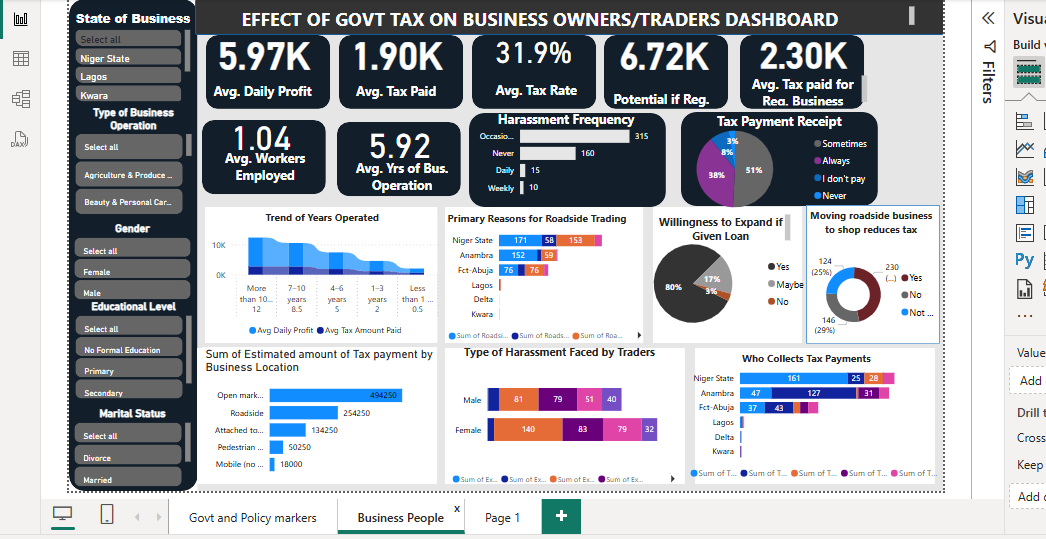

Layout of this report page (visuals, bound fields, positions):
{"tool":"powerbi","page":{"name":"Business People","canvas":[1280,720],"ordinal":1},"visuals":[{"type":"shape","box":[1072.7,106.8,202,199],"z":0},{"type":"shape","box":[188.8,0,1091.7,52.7],"z":1000},{"type":"shape","box":[0,0,1280.5,720],"z":2000},{"type":"shape","box":[200,53.3,181.7,108.3],"z":3000},{"type":"shape","box":[0,0,188.3,720],"z":4000},{"type":"shape","box":[395,53.3,181.7,108.3],"z":5000},{"type":"textbox","box":[205.7,117.1,170,41.4],"z":6000},{"type":"card","fields":{"Values":["Form Responses 1.Avg Daily Profit"]},"box":[200,27.1,167.1,98.6],"z":7000},{"type":"shape","box":[590,53.3,181.7,108.3],"z":8000},{"type":"textbox","box":[394.3,117.1,170,41.4],"z":9000},{"type":"shape","box":[783.3,53.3,181.7,108.3],"z":10000},{"type":"shape","box":[981.7,53.3,181.7,108.3],"z":11000},{"type":"card","fields":{"Values":["Form Responses 1.Avg Tax Amount Paid"]},"box":[395.7,25.7,168.6,100],"z":12000},{"type":"textbox","box":[774.3,128.6,185.7,41.4],"z":13000},{"type":"textbox","box":[981.4,107.1,191.4,54.3],"z":14000},{"type":"card","fields":{"Values":["Form Responses 1.Avg Tax Rate"]},"box":[587.1,34.3,185.7,81.4],"z":15000},{"type":"shape","box":[194.3,177.1,181.4,108.6],"z":16000},{"type":"textbox","box":[598.6,115.7,170,41.4],"z":17000},{"type":"shape","box":[392.9,180,181.4,108.6],"z":18000},{"type":"card","fields":{"Values":["Form Responses 1.Avg Workers Employed"]},"box":[194.3,160,172.9,75.7],"z":19000},{"type":"textbox","box":[201.4,215.7,170,70],"z":20000},{"type":"card","fields":{"Values":["Form Responses 1.Avg Yrs Operated"]},"box":[402.9,180,161.4,58.6],"z":21000},{"type":"shape","box":[198.6,304.3,340,198.6],"z":22000},{"type":"textbox","box":[200,304.3,340,37.1],"z":23000},{"type":"shape","box":[550.2,304.4,289.8,199],"z":24000},{"type":"ribbonChart","fields":{"Category":["Form Responses 1.Estimated Years of  Bus Operation","Form Responses 1.Years of Business Operation"],"Y":["Form Responses 1.Avg Daily Profit","Form Responses 1.Avg Tax Amount Paid"]},"box":[201.4,322.9,348.6,180],"z":25000},{"type":"textbox","box":[515.1,305.9,339.5,36.6],"z":26000},{"type":"barChart","fields":{"Category":["Form Responses 1.State of Business"],"Y":["Sum(Form Responses 1.Roadside Business reasons - Lack of capital)","Sum(Form Responses 1.Roadside Business reasons - Customers are more on the road)","Sum(Form Responses 1.Roadside Business reasons - Shop rent is too high)","Sum(Form Responses 1.Roadside Business reasons - Other)","Sum(Form Responses 1.Roadside Business reasons - No access to market stalls)"]},"box":[550.2,323.4,304.4,187.3],"z":27000},{"type":"shape","box":[854.6,304.4,218,199],"z":28000},{"type":"textbox","box":[854.6,310.2,206.3,49.8],"z":29000},{"type":"pieChart","fields":{"Y":["Form Responses 1.Total Traders"],"Category":["Form Responses 1.Willing to Expand or Move"]},"box":[799,332.2,291.2,168.3],"z":30000},{"type":"shape","box":[187.1,510,351.4,198.6],"z":31000},{"type":"advancedSlicerVisual","fields":{"Values":["Form Responses 1.State of Business"]},"box":[4.3,15.7,178.6,141.4],"z":32000},{"type":"textbox","box":[1072.7,301.5,202.2,51.4],"z":32000,"group":"g1"},{"type":"advancedSlicerVisual","fields":{"Values":["Form Responses 1.Type of Business Operation"]},"box":[4.3,157.1,180,165.7],"z":33000},{"type":"donutChart","fields":{"Y":["Form Responses 1.Total Traders"],"Category":["Form Responses 1.Moving Roadside Business to stall reduce tax"]},"box":[1073.9,343.4,206.6,177.6],"z":33500,"group":"g1"},{"type":"shape","box":[550,510,351.4,198.6],"z":34000},{"type":"textbox","box":[567.1,500,300,32.9],"z":35000},{"type":"barChart","fields":{"Category":["Form Responses 1.Gender"],"Y":["Sum(Form Responses 1.Experience with Tax Collector - Arrest or detention)","Sum(Form Responses 1.Experience with Tax Collector - Forced closure of business)","Sum(Form Responses 1.Experience with Tax Collector - Harassment or intimidation by taskforce)","Sum(Form Responses 1.Experience with Tax Collector - No negative experience)","Sum(Form Responses 1.Experience with Tax Collector - Seizure of goods or equipment)","Sum(Form Responses 1.Experience with Tax Collector - Threats for not paying informal fees)"]},"box":[556.1,516.6,346.8,203.4],"z":36000},{"type":"shape","box":[915.7,510,351.4,198.6],"z":37000},{"type":"textbox","box":[915.7,510,325.7,45.7],"z":38000},{"type":"barChart","fields":{"Category":["Form Responses 1.State of Business"],"Y":["Sum(Form Responses 1.Tax Collector - Local Government Officials)","Sum(Form Responses 1.Tax Collector - Taskforce agents)","Sum(Form Responses 1.Tax Collector - None)","Sum(Form Responses 1.Tax Collector - Touts or unidentified individuals)","Sum(Form Responses 1.Tax Collector - Union representatives)"]},"box":[902.9,525.4,377.6,187.3],"z":39000},{"type":"shape","box":[585.4,166.8,288.3,137.6],"z":40000},{"type":"advancedSlicerVisual","fields":{"Values":["Form Responses 1.Gender"]},"box":[2.9,325.7,180,120],"z":41000},{"type":"card","fields":{"Values":["Form Responses 1.Potential Income if Registered"]},"box":[791.7,29.3,156.6,96.6],"z":42000},{"type":"card","fields":{"Values":["Form Responses 1.Potential Tax Paid if Registered"]},"box":[981.4,32.9,184.3,87.1],"z":43000},{"type":"textbox","box":[402.9,230,170,70],"z":44000},{"type":"advancedSlicerVisual","fields":{"Values":["Form Responses 1.Educational Level"]},"box":[4.4,440.5,180,150.7],"z":45000},{"type":"advancedSlicerVisual","fields":{"Values":["Form Responses 1.Marital Status"]},"box":[2.9,597.1,180,122.9],"z":46000},{"type":"barChart","fields":{"Category":["Form Responses 1.Experience Frequency"],"Y":["Form Responses 1.Total Traders"]},"box":[578,168.3,276.6,133.2],"z":47000},{"type":"textbox","box":[586.8,158,281,41],"z":48000},{"type":"shape","box":[895.6,165.4,288.3,137.6],"z":49000},{"type":"textbox","box":[901.5,161,281,41],"z":50000},{"type":"pieChart","fields":{"Category":["Form Responses 1.Receives Receipt of payment"],"Y":["CountNonNull(Form Responses 1.Receives Receipt of payment)"]},"box":[854.6,168.3,327.8,161],"z":51000},{"type":"shape","box":[184.4,0,1096.1,52.7],"z":52000},{"type":"textbox","box":[247.3,5.9,995.1,41],"z":53000},{"type":"barChart","fields":{"Category":["Form Responses 1.Business Location"],"Y":["Sum(Form Responses 1.Estimated amount of Tax payment)"]},"box":[194.6,509.3,343.9,197.6],"z":54000},{"type":"shape","box":[1078.5,301.5,196.1,203.4],"z":54500},{"type":"group","id":"g1","title":"Group 1","box":[1072.7,301.5,207.8,219.5],"z":55000}]}

Visuals, with their boxes on the page's 1280x720 design canvas (x1, y1, x2, y2). These are canvas units, not pixel positions in the 1046x539 screenshot, which may show the page scaled, cropped or inside an application window:
shape: locate(1073, 107, 1275, 306)
shape: locate(189, 0, 1280, 53)
shape: locate(0, 0, 1280, 720)
shape: locate(200, 53, 382, 162)
shape: locate(0, 0, 188, 720)
shape: locate(395, 53, 577, 162)
textbox: locate(206, 117, 376, 158)
card - Form Responses 1.Avg Daily Profit: locate(200, 27, 367, 126)
shape: locate(590, 53, 772, 162)
textbox: locate(394, 117, 564, 158)
shape: locate(783, 53, 965, 162)
shape: locate(982, 53, 1163, 162)
card - Form Responses 1.Avg Tax Amount Paid: locate(396, 26, 564, 126)
textbox: locate(774, 129, 960, 170)
textbox: locate(981, 107, 1173, 161)
card - Form Responses 1.Avg Tax Rate: locate(587, 34, 773, 116)
shape: locate(194, 177, 376, 286)
textbox: locate(599, 116, 769, 157)
shape: locate(393, 180, 574, 289)
card - Form Responses 1.Avg Workers Employed: locate(194, 160, 367, 236)
textbox: locate(201, 216, 371, 286)
card - Form Responses 1.Avg Yrs Operated: locate(403, 180, 564, 239)
shape: locate(199, 304, 539, 503)
textbox: locate(200, 304, 540, 341)
shape: locate(550, 304, 840, 503)
ribbonChart - Form Responses 1.Estimated Years of  Bus Operation x Form Responses 1.Years of Business Operation: locate(201, 323, 550, 503)
textbox: locate(515, 306, 855, 342)
barChart - Form Responses 1.State of Business x Sum(Form Responses 1.Roadside Business reasons - Lack of capital): locate(550, 323, 855, 511)
shape: locate(855, 304, 1073, 503)
textbox: locate(855, 310, 1061, 360)
pieChart - Form Responses 1.Total Traders x Form Responses 1.Willing to Expand or Move: locate(799, 332, 1090, 500)
shape: locate(187, 510, 538, 709)
advancedSlicerVisual - Form Responses 1.State of Business: locate(4, 16, 183, 157)
textbox: locate(1073, 302, 1275, 353)
advancedSlicerVisual - Form Responses 1.Type of Business Operation: locate(4, 157, 184, 323)
donutChart - Form Responses 1.Total Traders x Form Responses 1.Moving Roadside Business to stall reduce tax: locate(1074, 343, 1280, 521)
shape: locate(550, 510, 901, 709)
textbox: locate(567, 500, 867, 533)
barChart - Form Responses 1.Gender x Sum(Form Responses 1.Experience with Tax Collector - Arrest or detention): locate(556, 517, 903, 720)
shape: locate(916, 510, 1267, 709)
textbox: locate(916, 510, 1241, 556)
barChart - Form Responses 1.State of Business x Sum(Form Responses 1.Tax Collector - Local Government Officials): locate(903, 525, 1280, 713)
shape: locate(585, 167, 874, 304)
advancedSlicerVisual - Form Responses 1.Gender: locate(3, 326, 183, 446)
card - Form Responses 1.Potential Income if Registered: locate(792, 29, 948, 126)
card - Form Responses 1.Potential Tax Paid if Registered: locate(981, 33, 1166, 120)
textbox: locate(403, 230, 573, 300)
advancedSlicerVisual - Form Responses 1.Educational Level: locate(4, 440, 184, 591)
advancedSlicerVisual - Form Responses 1.Marital Status: locate(3, 597, 183, 720)
barChart - Form Responses 1.Experience Frequency x Form Responses 1.Total Traders: locate(578, 168, 855, 302)
textbox: locate(587, 158, 868, 199)
shape: locate(896, 165, 1184, 303)
textbox: locate(902, 161, 1182, 202)
pieChart - Form Responses 1.Receives Receipt of payment x CountNonNull(Form Responses 1.Receives Receipt of payment): locate(855, 168, 1182, 329)
shape: locate(184, 0, 1280, 53)
textbox: locate(247, 6, 1242, 47)
barChart - Form Responses 1.Business Location x Sum(Form Responses 1.Estimated amount of Tax payment): locate(195, 509, 538, 707)
shape: locate(1078, 302, 1275, 505)
"Group 1" group: locate(1073, 302, 1280, 521)
